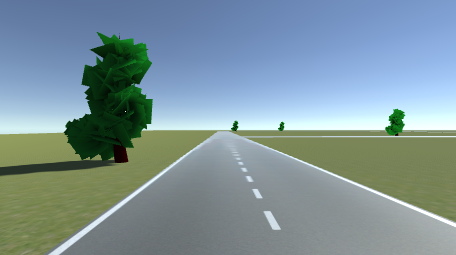tree: (63, 31, 155, 166), (384, 108, 407, 138), (230, 120, 239, 133), (278, 121, 284, 131)
